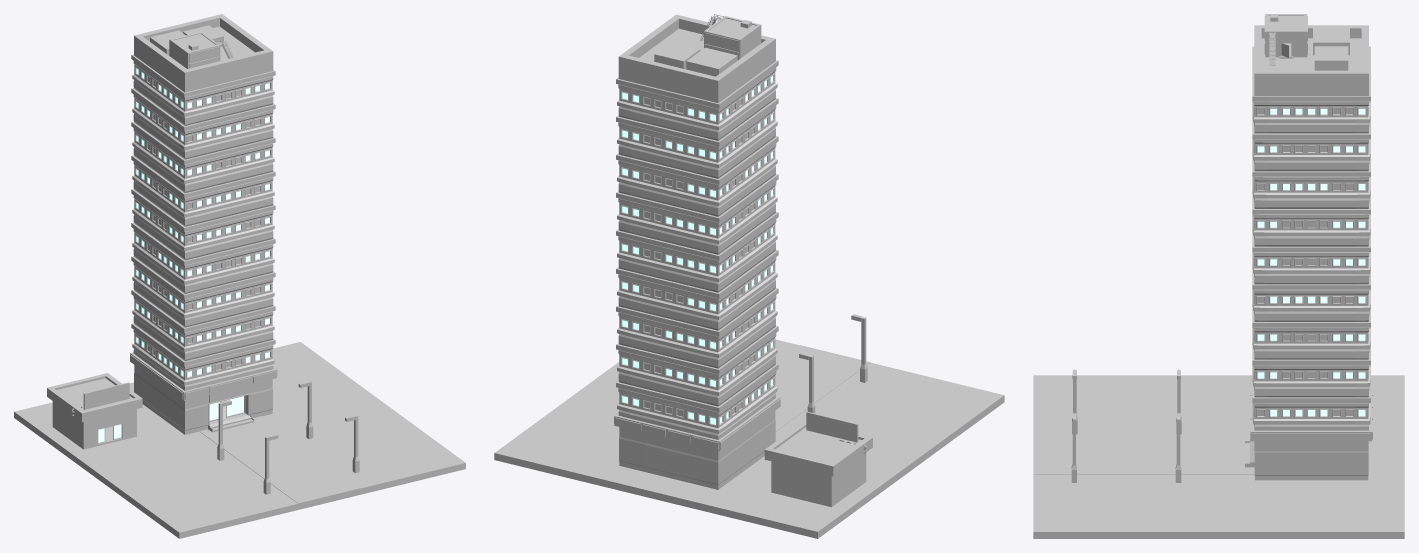
Rendered from building_with_lights.fbx.
3 views of the same model, side by side, from view 1: azimuth 30°, elevation 25°; view 2: azimuth 150°, elevation 25°; view 3: azimuth 270°, elevation 25° (orthographic). The views are drawn at different scales.
Parts seen in each view (by area): view 1: Plane.014; view 2: Plane.014; view 3: Plane.014.
Boxes of the visible parts, x1=… form: Plane.014: x1=14, y1=14, x2=465, y2=538; Plane.014: x1=494, y1=14, x2=1004, y2=538; Plane.014: x1=1033, y1=14, x2=1404, y2=538.
Bounding box in the file's own units: 653 × 841 × 653.
